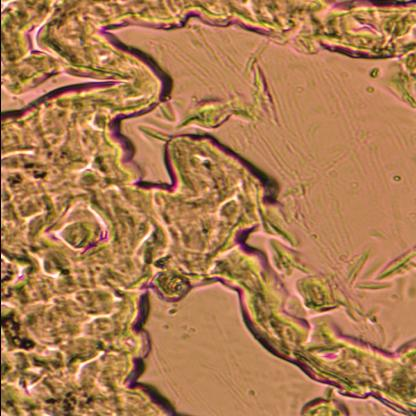Normal: (0, 0, 187, 416), (0, 0, 416, 82)
